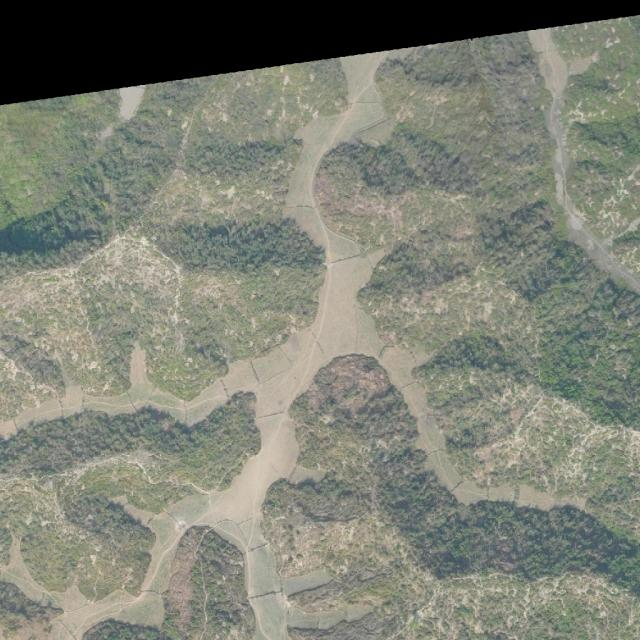agricultural_land: (282, 231, 412, 415), (0, 359, 264, 447), (106, 465, 227, 604), (375, 335, 475, 495), (280, 109, 342, 249), (45, 576, 172, 640), (250, 345, 301, 478), (336, 50, 399, 146), (452, 479, 586, 513), (526, 23, 576, 100), (126, 342, 149, 387), (0, 420, 19, 441)
dryland: (117, 85, 147, 120)
greenland: (0, 393, 275, 610), (302, 112, 444, 262), (370, 524, 440, 593), (0, 581, 63, 640)
